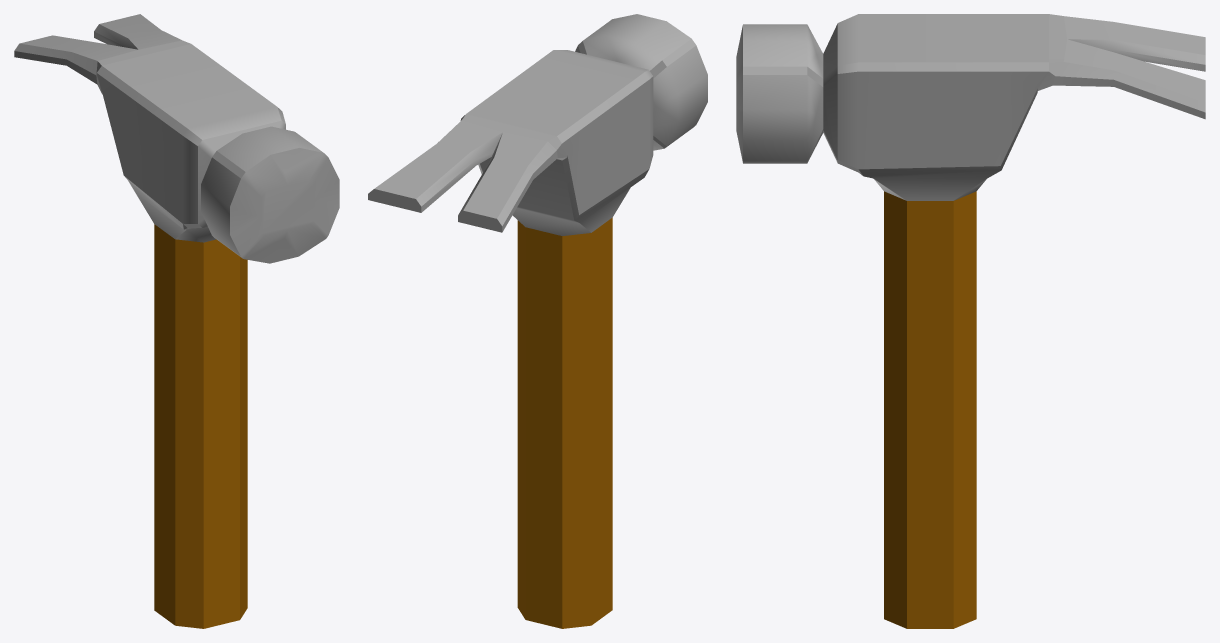
File: Hammer.fbx
3 views of the same model, side by side, from view 1: azimuth 30°, elevation 25°; view 2: azimuth 150°, elevation 25°; view 3: azimuth 270°, elevation 25° (orthographic). The views are drawn at different scales.
Visible parts, largest first — view 1: Hammer; view 2: Hammer; view 3: Hammer.
Boxes of the visible parts, box(x1,y1,x2,y2) form: Hammer: box(14, 14, 339, 628); Hammer: box(368, 14, 707, 628); Hammer: box(736, 14, 1205, 628).
Size of the model in its own units: 5.88 by 22.12 by 16.35.
